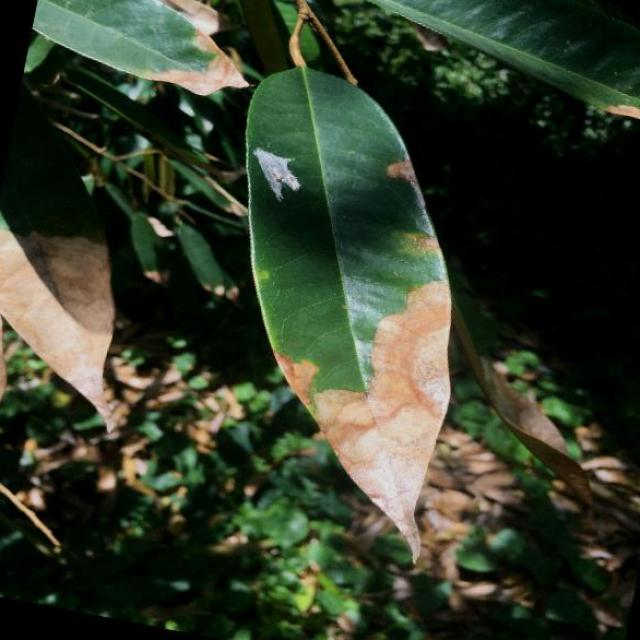Leaf Blight: (165, 54, 517, 570)
